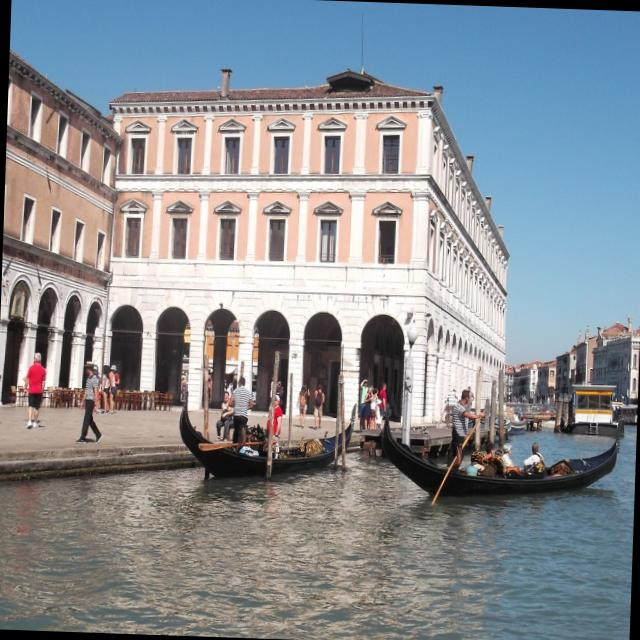boat: (370, 383, 638, 525), (161, 373, 362, 503)
